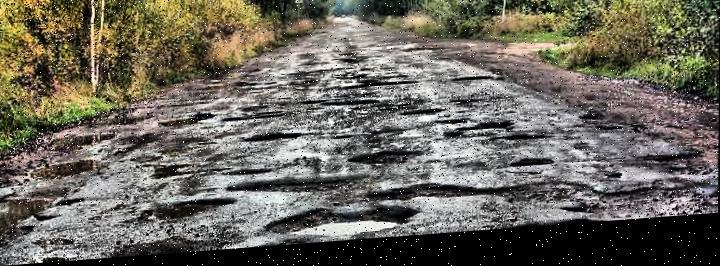pothole: (557, 189, 718, 232), (259, 206, 417, 246), (0, 188, 86, 247), (226, 177, 382, 201), (142, 198, 238, 228), (345, 154, 426, 172), (157, 114, 215, 131), (457, 127, 513, 142), (242, 134, 305, 147), (324, 101, 376, 114), (510, 164, 555, 178), (499, 139, 544, 152), (400, 115, 441, 123)
